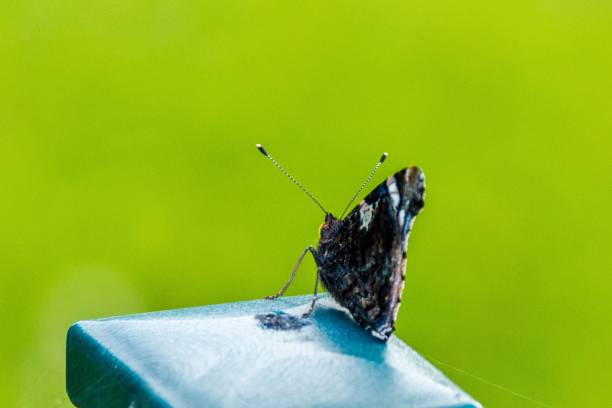Butterfly: (249, 140, 428, 347)
